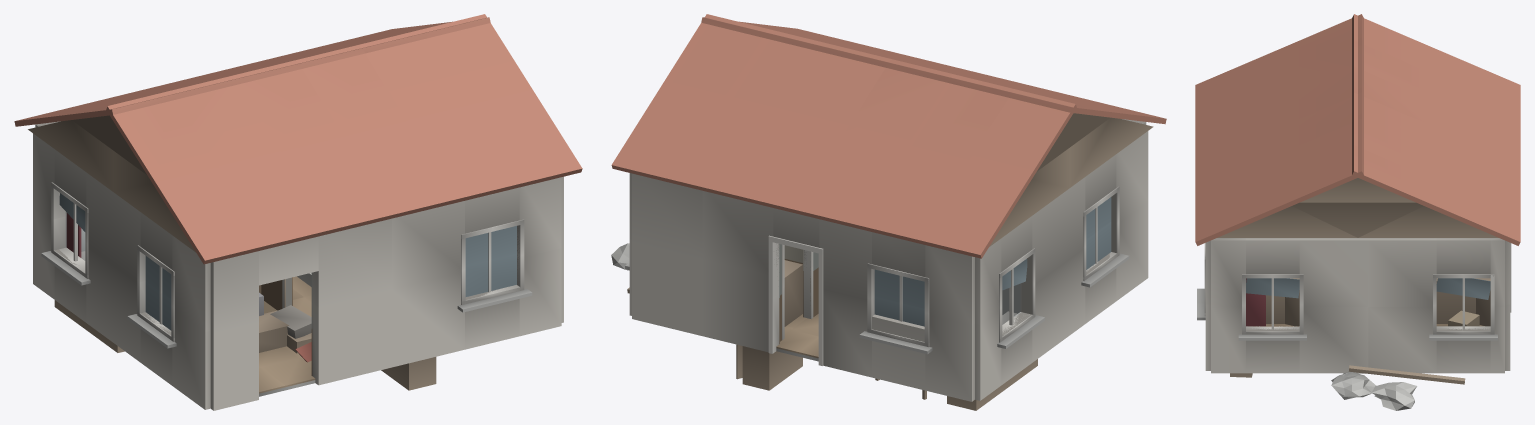
Rendered from casa_r14.glb.
3 views of the same model, side by side, from view 1: azimuth 30°, elevation 25°; view 2: azimuth 150°, elevation 25°; view 3: azimuth 270°, elevation 25° (orthographic). The views are drawn at different scales.
Visible parts, largest first — view 1: longe, ext, detalhe, dentro, guarda_roupa_quarto1, tv_sala, mesa_centro_sala, balcao_cozinha0; view 2: longe, ext, detalhe, guarda_roupa_quarto2, dentro, balcao_cozinha0; view 3: longe, ext, detalhe, guarda_roupa_quarto2, guarda_roupa_quarto1, dentro.
Boxes of the visible parts, x1=… form: longe: x1=14, y1=14, x2=582, y2=264; ext: x1=33, y1=121, x2=563, y2=410; detalhe: x1=41, y1=182, x2=532, y2=348; dentro: x1=53, y1=121, x2=315, y2=396; guarda_roupa_quarto1: x1=381, y1=357, x2=436, y2=390; tv_sala: x1=264, y1=305, x2=311, y2=353; mesa_centro_sala: x1=259, y1=313, x2=288, y2=352; balcao_cozinha0: x1=54, y1=251, x2=124, y2=352; longe: x1=611, y1=14, x2=1166, y2=258; ext: x1=629, y1=119, x2=1148, y2=401; detalhe: x1=611, y1=186, x2=1129, y2=365; guarda_roupa_quarto2: x1=736, y1=260, x2=802, y2=390; dentro: x1=776, y1=119, x2=1130, y2=361; balcao_cozinha0: x1=947, y1=311, x2=1037, y2=410; longe: x1=1195, y1=14, x2=1520, y2=245; ext: x1=1205, y1=238, x2=1510, y2=373; detalhe: x1=1197, y1=243, x2=1511, y2=410; guarda_roupa_quarto2: x1=1436, y1=278, x2=1490, y2=326; guarda_roupa_quarto1: x1=1266, y1=278, x2=1299, y2=326; dentro: x1=1253, y1=310, x2=1484, y2=326.
Size of what is drawn, in the model's own units: 8.97 by 5.59 by 6.64.
